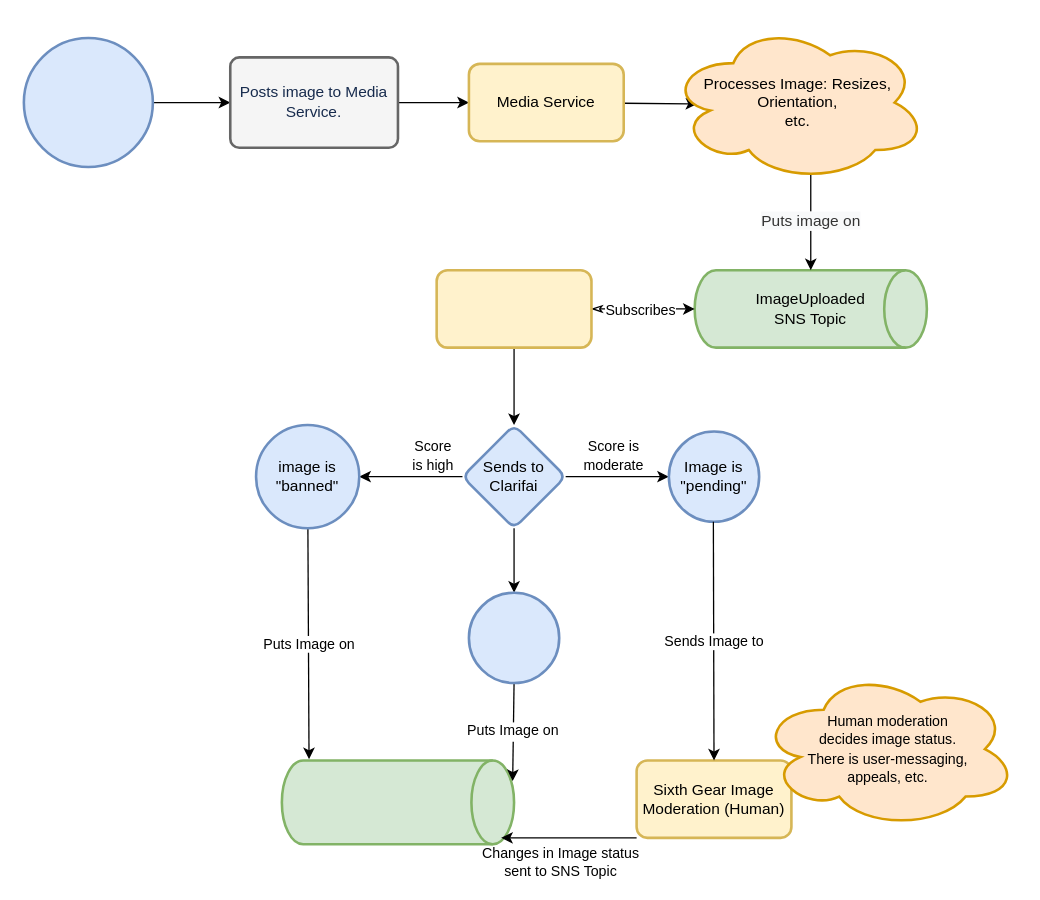
Some shapes in this 1040 by 900 pixel diagram are drawn without their labels. Here are the shapes that lost their labels. From the top down, the box of each, then its label:
(22, 36, 154, 168): User uploads images to Story Part, Cover, etc.
(435, 268, 592, 348): Clarifai Prediction Consumer Service
(467, 591, 560, 684): Image is "ok"
(280, 759, 515, 845): ImageModerated SNS Topic
